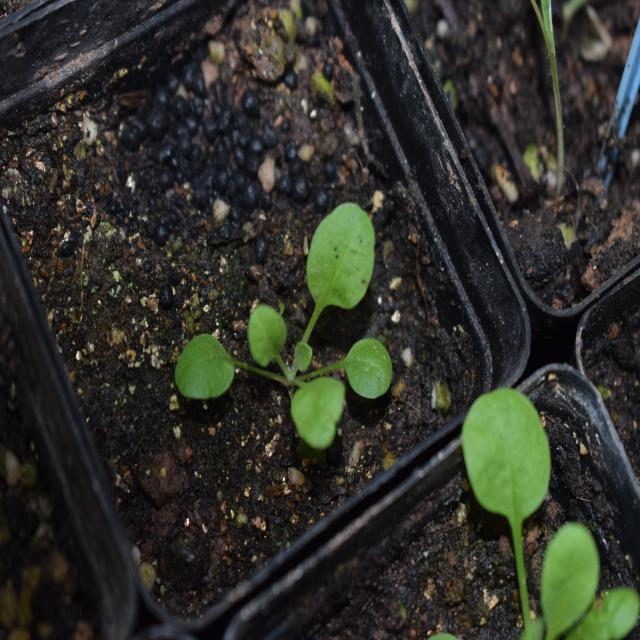Shepherd_Purse: (168, 193, 395, 435)
